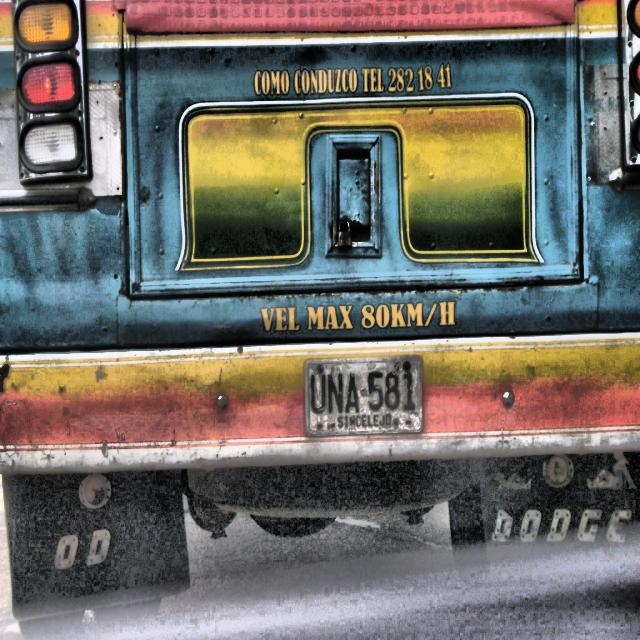plate: (305, 355, 424, 437)
